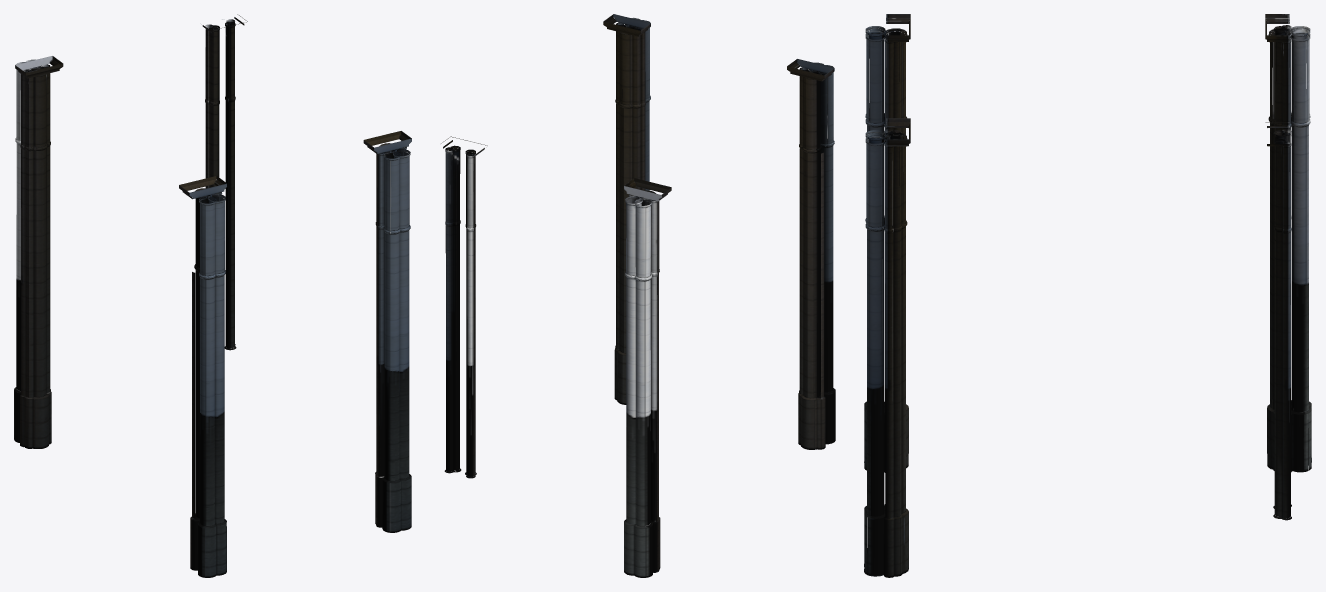
The model's file is InnerPillar_two.obj.
3 views of the same model, side by side, from view 1: azimuth 30°, elevation 25°; view 2: azimuth 150°, elevation 25°; view 3: azimuth 270°, elevation 25° (orthographic). The views are drawn at different scales.
Parts seen in each view (by area): view 1: Cylinder.004_0.004; view 2: Cylinder.004_0.004; view 3: Cylinder.004_0.004.
Boxes of the visible parts, x1=… form: Cylinder.004_0.004: x1=14, y1=14, x2=411, y2=577; Cylinder.004_0.004: x1=441, y1=14, x2=835, y2=577; Cylinder.004_0.004: x1=864, y1=14, x2=1311, y2=577.
Bounding box in the file's own units: 8.27 × 13.55 × 12.47.
